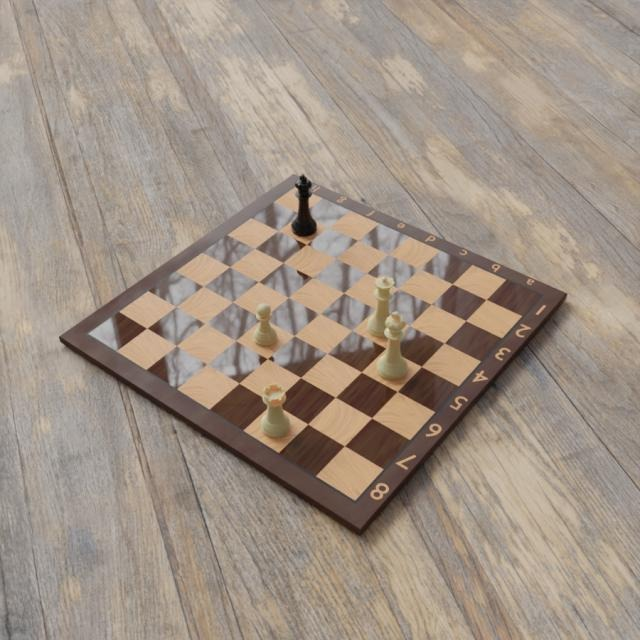black-king: (290, 174, 318, 238)
white-king: (376, 312, 408, 384)
white-pawn: (253, 302, 278, 349)
white-queen: (367, 274, 397, 340)
white-rook: (260, 383, 291, 441)
